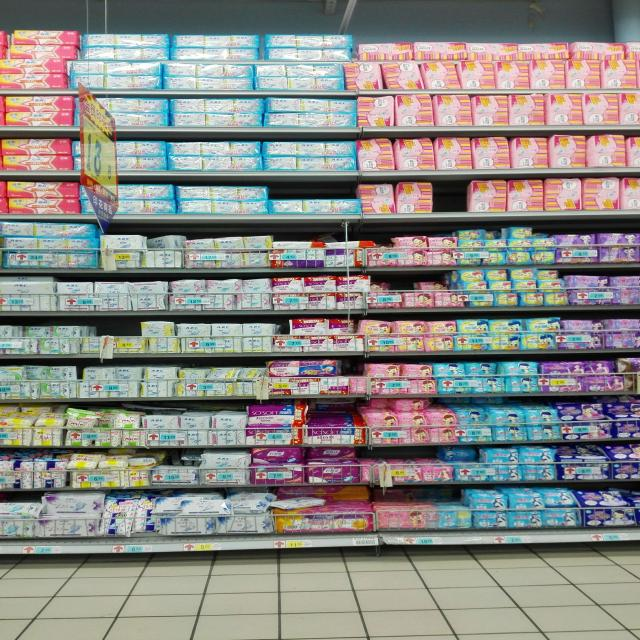empty: (430, 171, 476, 213)
